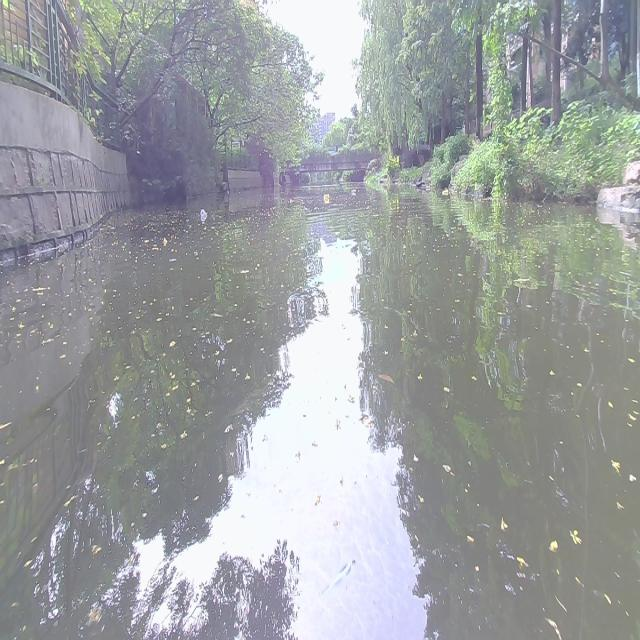bottle: (321, 193, 329, 201), (440, 190, 450, 196), (350, 188, 358, 194), (199, 208, 205, 215), (425, 185, 431, 192)
